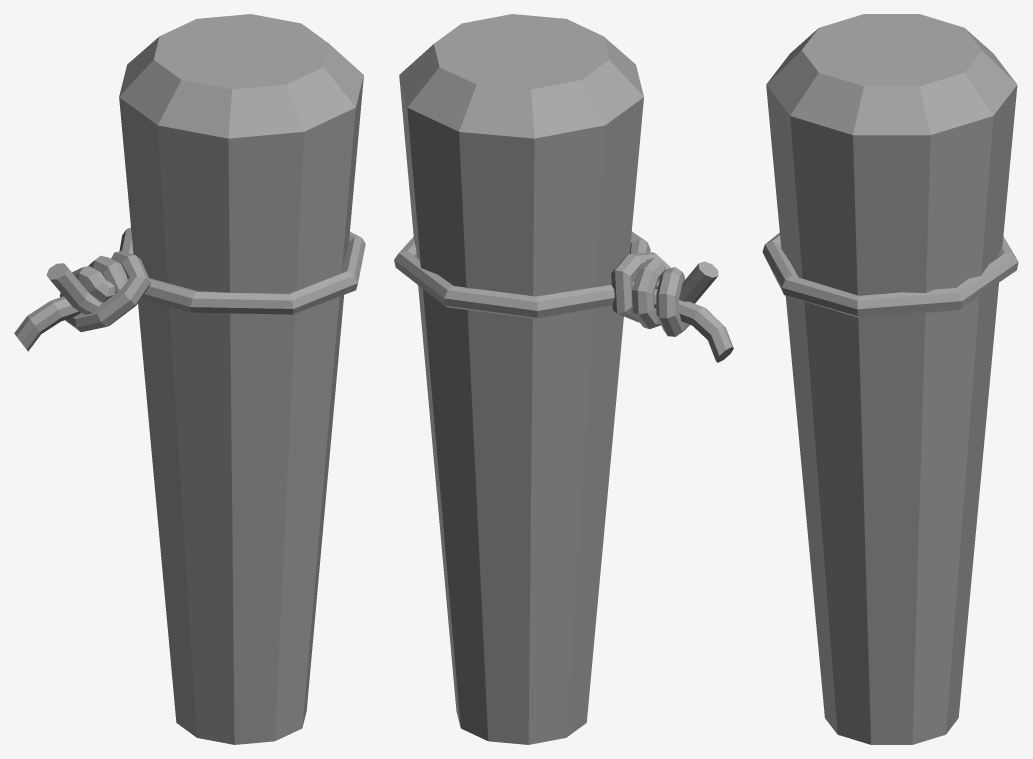
File: TripWireStakeBroken.fbx
3 views of the same model, side by side, from view 1: azimuth 30°, elevation 25°; view 2: azimuth 150°, elevation 25°; view 3: azimuth 270°, elevation 25° (orthographic).
Parts seen in each view (by area): view 1: TripWireStakeBroken; view 2: TripWireStakeBroken; view 3: TripWireStakeBroken.
Part boxes in pixels (x1,y1,x2,y2): TripWireStakeBroken: (14, 14, 365, 744); TripWireStakeBroken: (394, 14, 733, 744); TripWireStakeBroken: (762, 14, 1018, 744).
Size of the model in its own units: 12.52 by 24.52 by 8.52.
